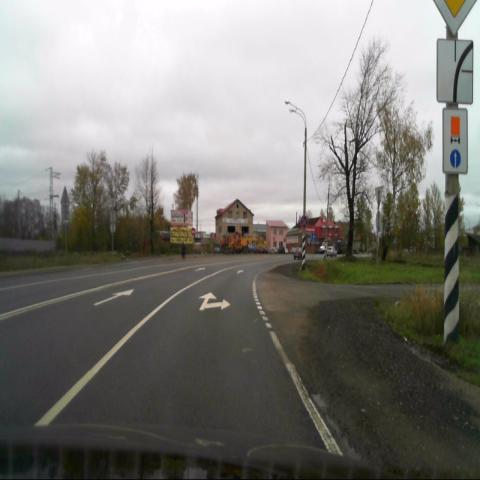3_27: (300, 215, 308, 229)
